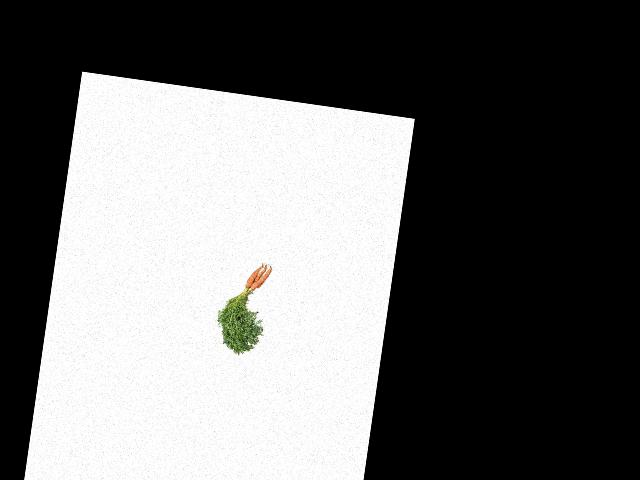carrot: (250, 266, 272, 294)
